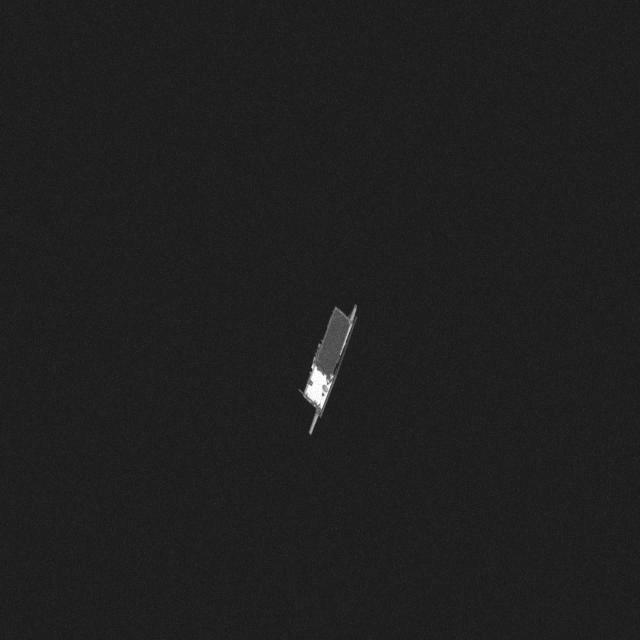satellite: (282, 296, 364, 442)
